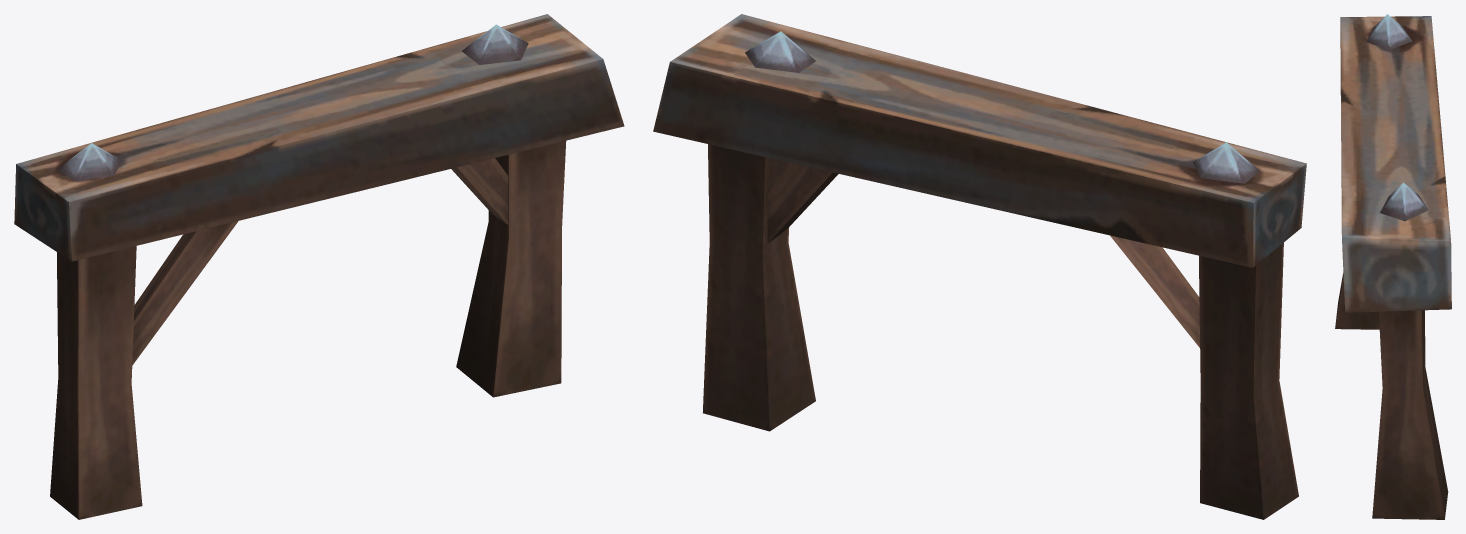
File: mine_railing_small_01.fbx
3 views of the same model, side by side, from view 1: azimuth 30°, elevation 25°; view 2: azimuth 150°, elevation 25°; view 3: azimuth 270°, elevation 25° (orthographic). The views are drawn at different scales.
Parts seen in each view (by area): view 1: 13_-_Default; view 2: 13_-_Default; view 3: 13_-_Default.
Part boxes in pixels (box(x1,y1,x2,y2)): 13_-_Default: box(14, 14, 624, 519); 13_-_Default: box(653, 14, 1306, 519); 13_-_Default: box(1335, 14, 1451, 519).
Bounding box in the file's own units: 2.41 × 1.47 × 0.4926.
